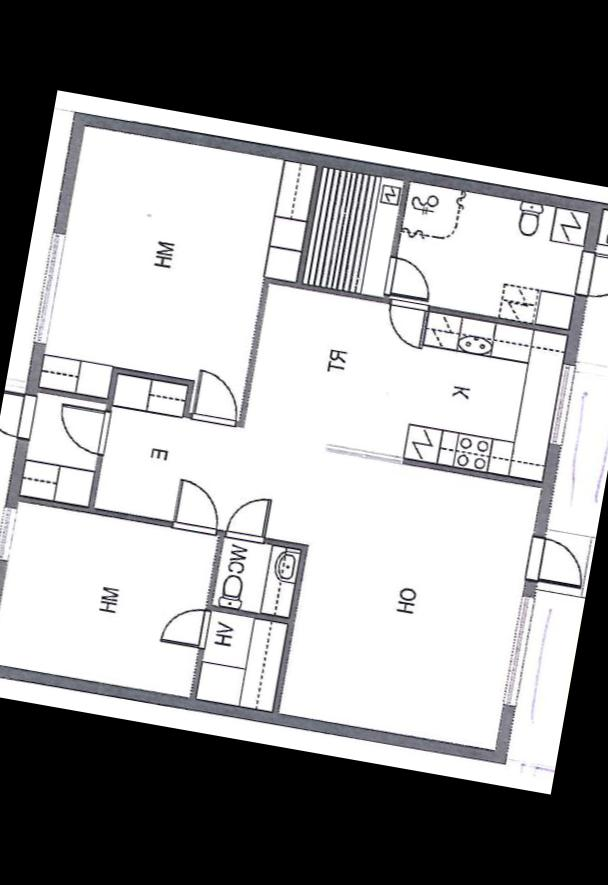door: (165, 474, 228, 542), (188, 366, 248, 436), (50, 400, 117, 459), (522, 534, 590, 592), (219, 488, 276, 548), (378, 292, 432, 354), (379, 252, 439, 304), (158, 602, 214, 653), (0, 388, 41, 446), (575, 246, 608, 309)
window: (26, 218, 76, 352), (496, 590, 542, 716), (542, 360, 580, 458), (0, 497, 23, 569)
